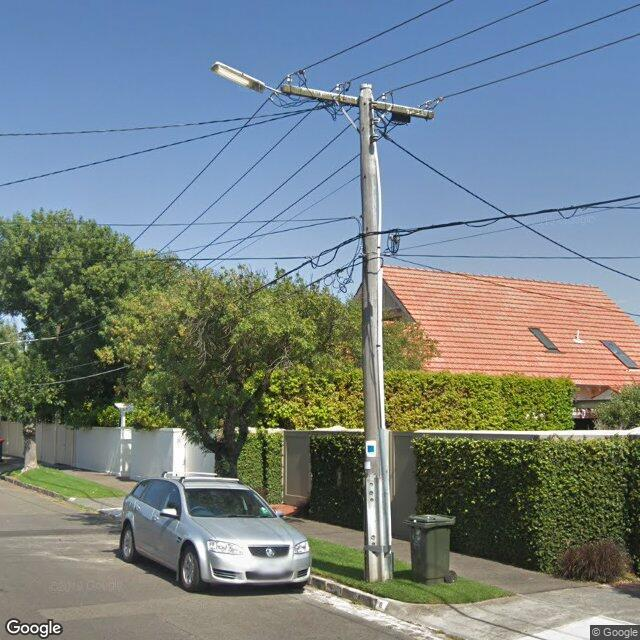crossarm: (280, 85, 434, 119)
streetlight: (210, 61, 281, 94)
timber-pole: (360, 82, 393, 584)
